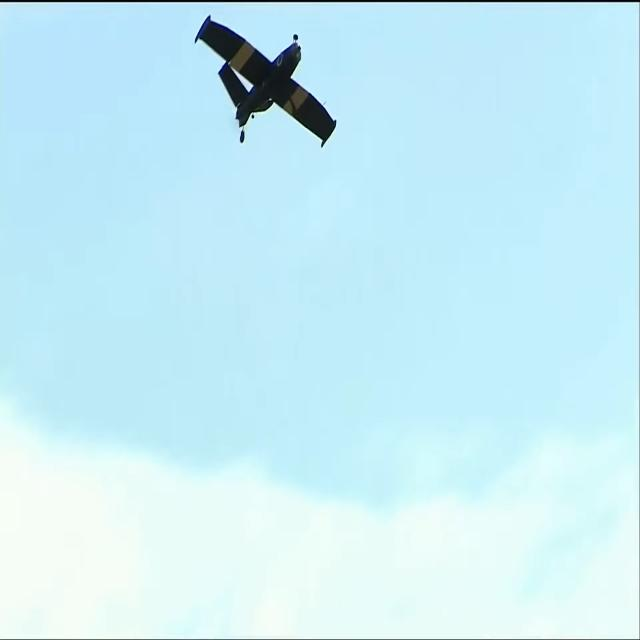iha: (186, 0, 331, 83)
